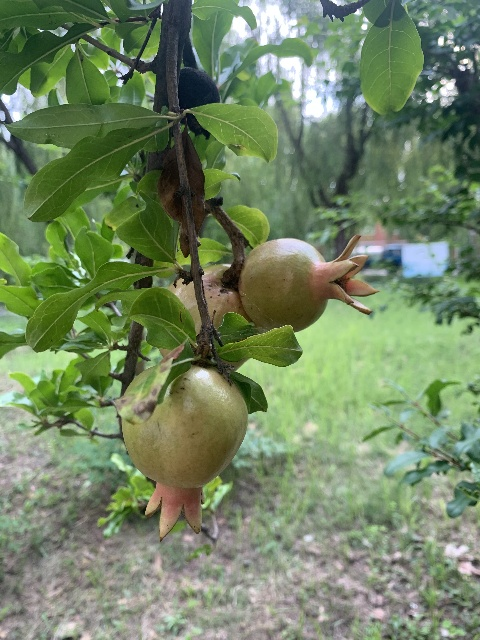mid-growth: (120, 361, 247, 540), (239, 234, 378, 330), (159, 263, 249, 371)
